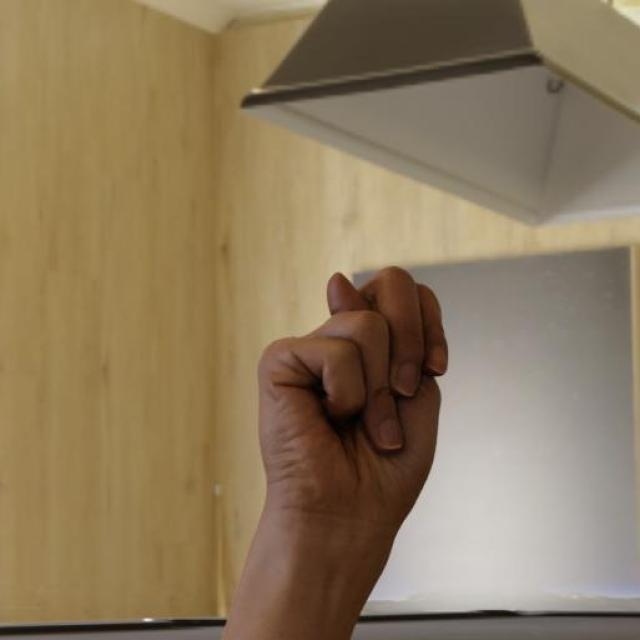N: (248, 257, 457, 529)
